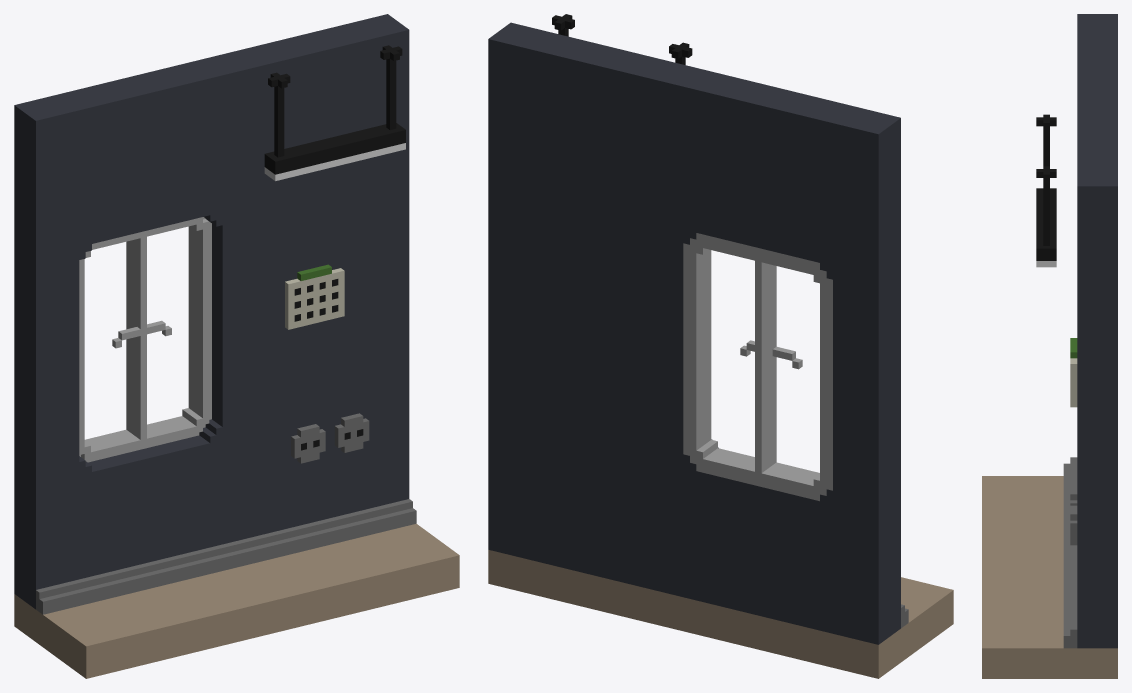
File: wholeVariant2.obj
3 views of the same model, side by side, from view 1: azimuth 30°, elevation 25°; view 2: azimuth 150°, elevation 25°; view 3: azimuth 270°, elevation 25° (orthographic). The views are drawn at different scales.
Bounding box in the file's own units: 6 × 8 × 2.
1 material, 1 textured.
